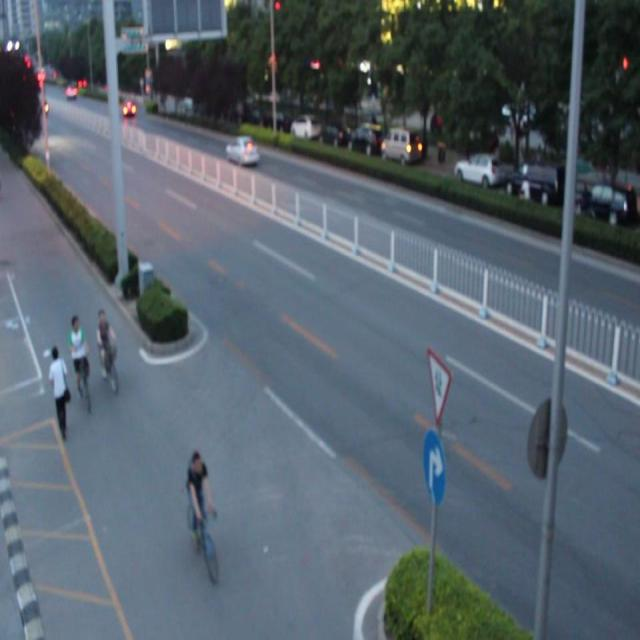car: (226, 133, 260, 169)
